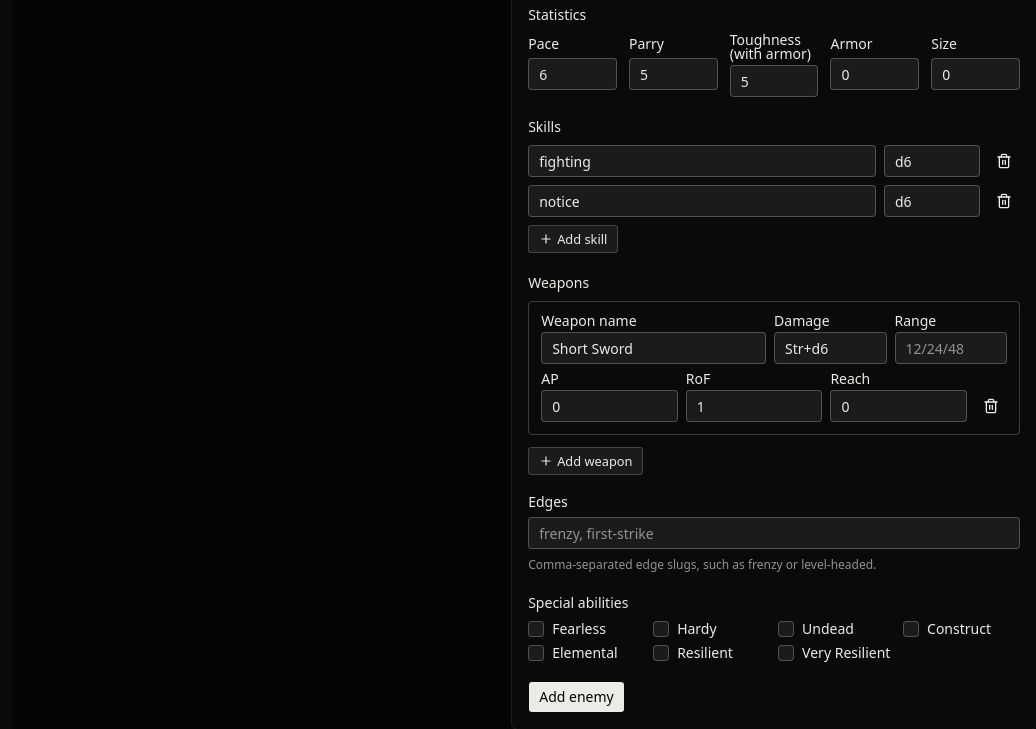
Test case: BestiaryRoute › validates and creates an enemy
Later steps or results of the test are not shown.
(page scrolled)
Type "lots" into the field labelled "Damage" at (830, 348), box [774,332,887,364]
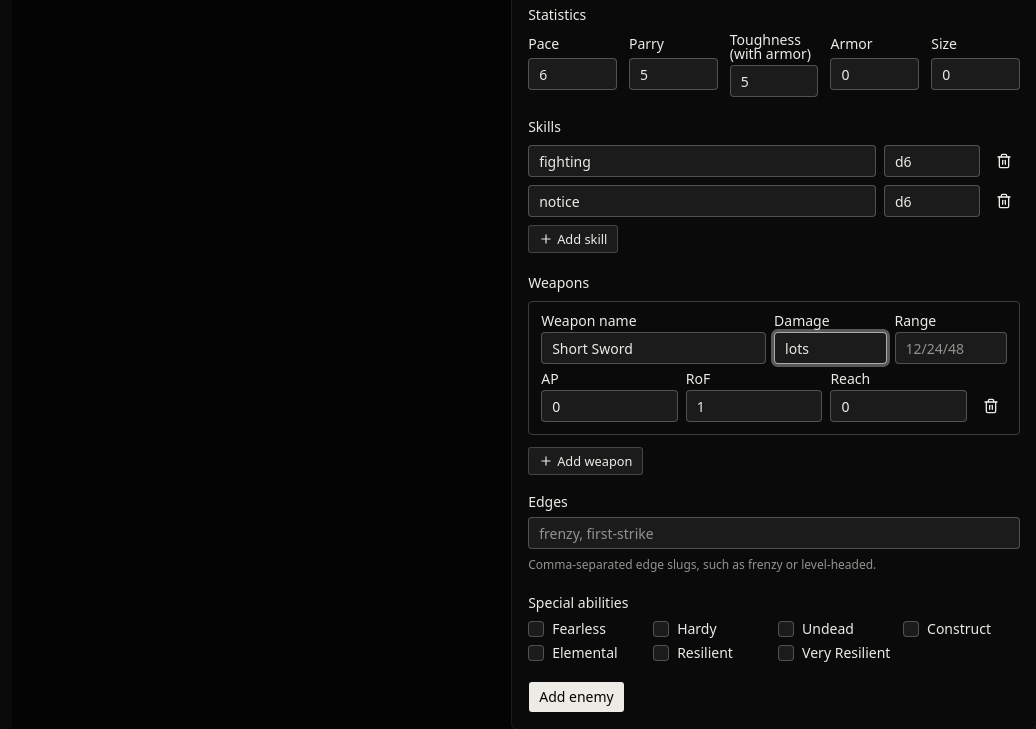
Click the button "Add enemy" at (576, 697), box [528,681,625,713]
(page scrolled)
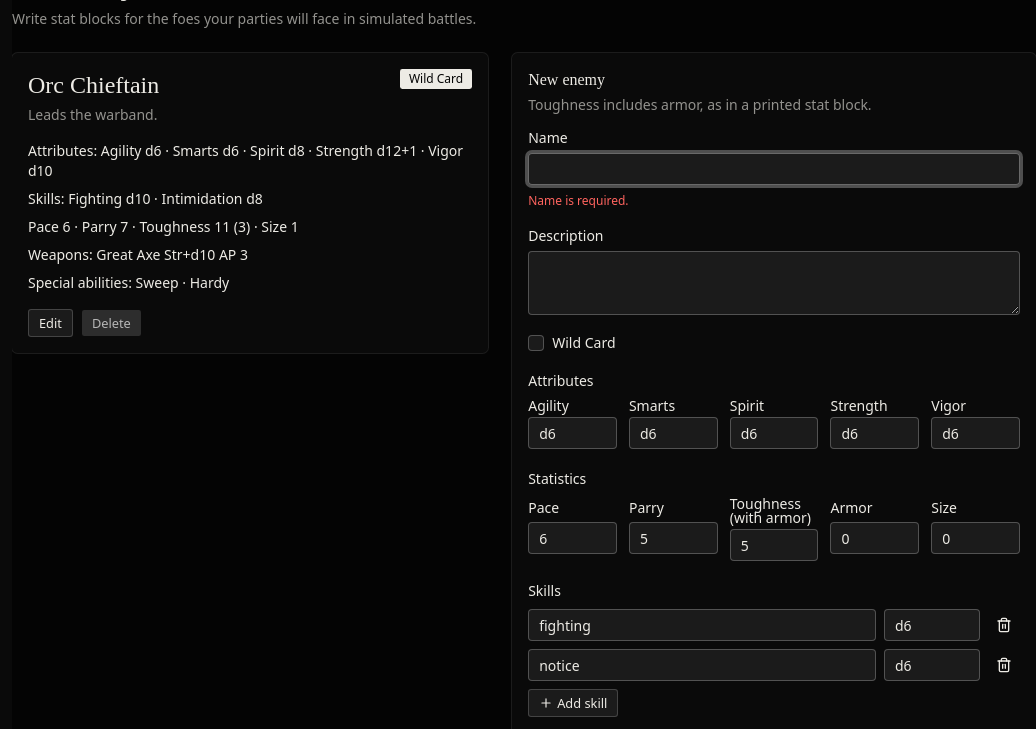
Expected: the text "Name is required." is shown, [528,192,629,209]
